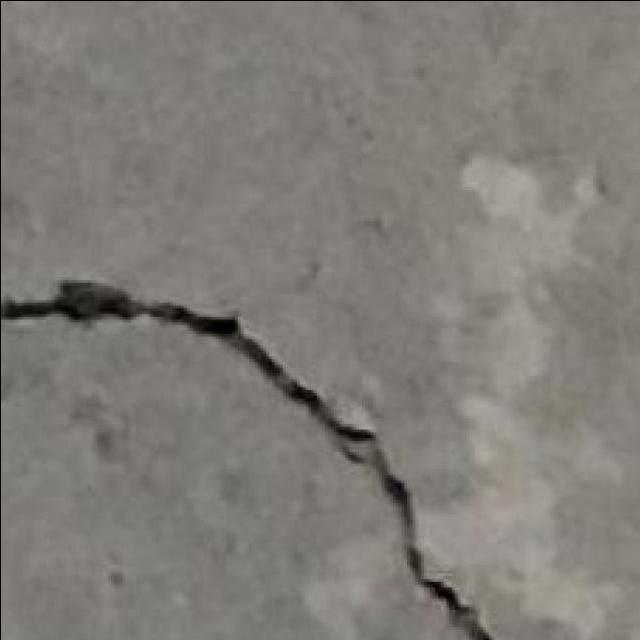Crack: (2, 278, 495, 638)
